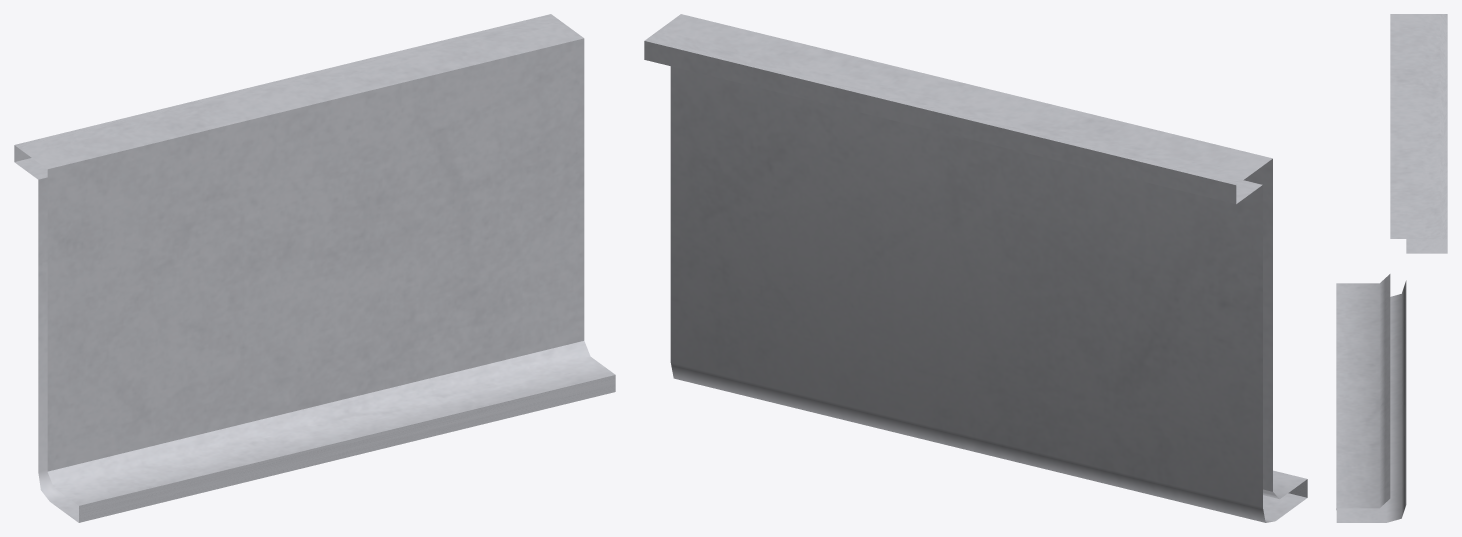
The model's file is SideGuard.glb.
3 renders of one model, left to right at view 1: azimuth 30°, elevation 25°; view 2: azimuth 150°, elevation 25°; view 3: azimuth 270°, elevation 25°, orthographic. The views are drawn at different scales.
Parts seen in each view (by area): view 1: SideGuard; view 2: SideGuard; view 3: SideGuard.
Boxes of the visible parts, x1,y1,x2,y2 form: SideGuard: (14,14,615,522); SideGuard: (644,14,1307,522); SideGuard: (1336,14,1447,522).
Size of the model in its own units: 1 by 0.5886 by 0.2085.
1 material, 1 textured.
